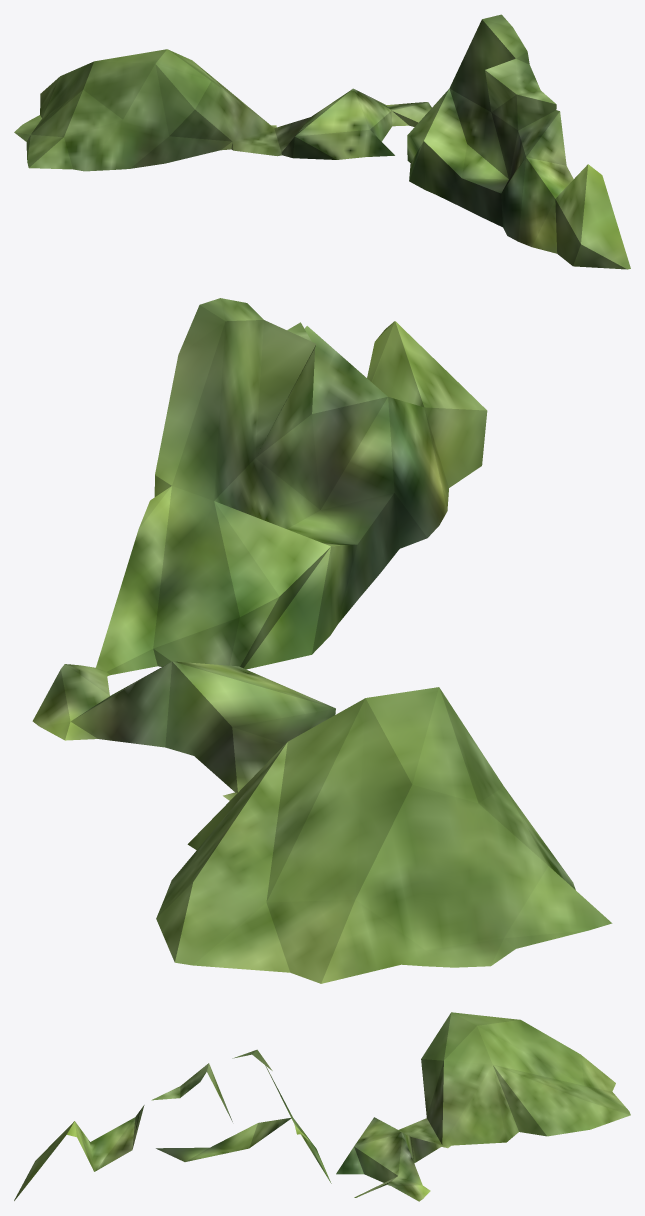
The picture shows the model from 3 angles, top to bottom: view 1: azimuth 30°, elevation 25°; view 2: azimuth 150°, elevation 25°; view 3: azimuth 270°, elevation 25°; orthographic projection. The views are drawn at different scales.
Size of the model in its own units: 6.68 by 2.92 by 11.12.
Materials: 1 (1 with a texture image).
